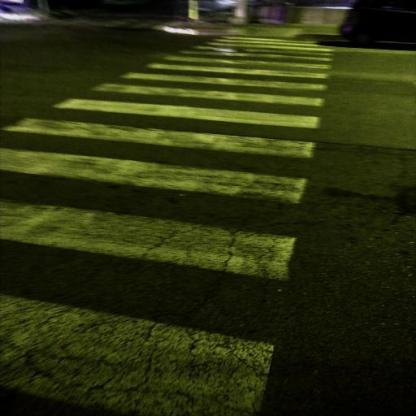crosswalk: (42, 82, 328, 133)
